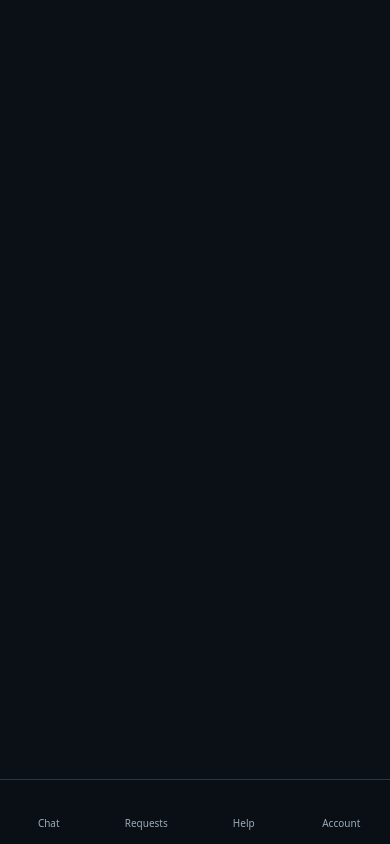
Scenario: MobileClientAppShell › prompts to sign in on Requests tab when unauthenticated
What coordinates should you click on to do the following:
click the button "Requests"
I would click on:
 (146, 812)
Its box is [98, 780, 195, 843].
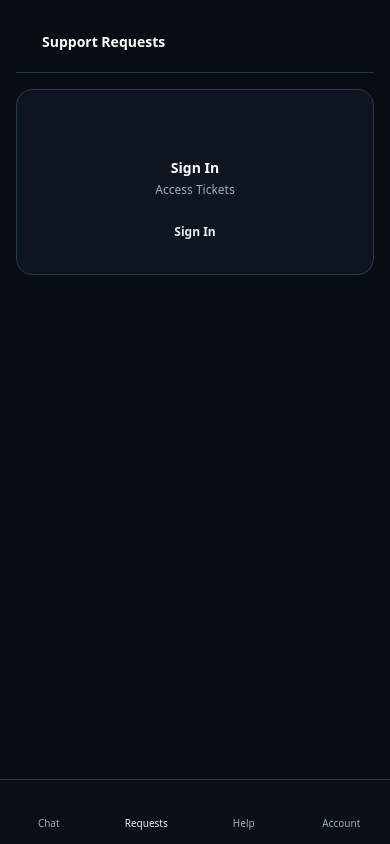
Expected: the heading "Sign In" is shown, [171, 158, 219, 177]
